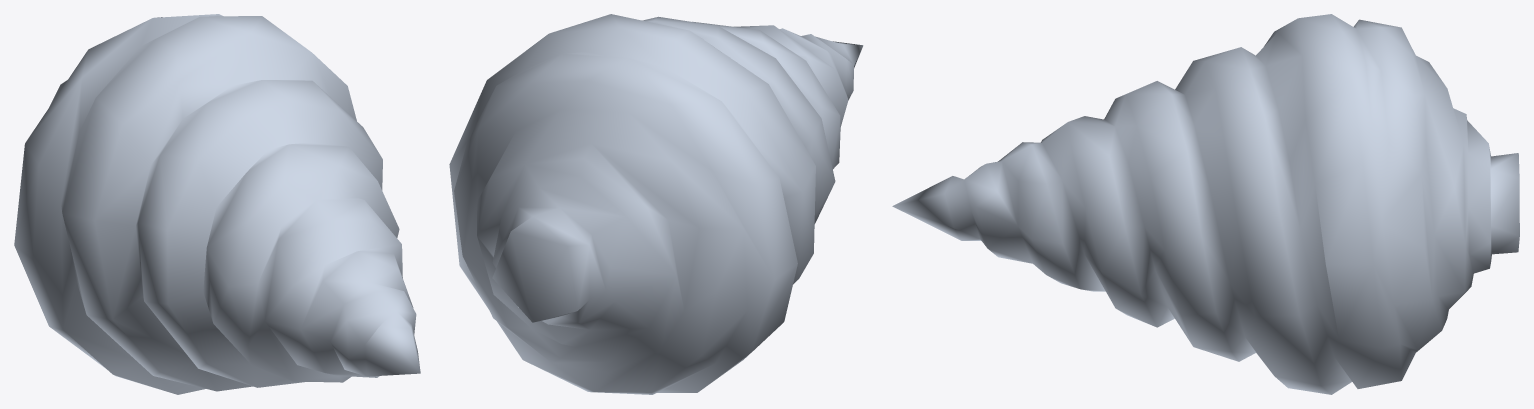
File: Drill 1.fbx
3 views of the same model, side by side, from view 1: azimuth 30°, elevation 25°; view 2: azimuth 150°, elevation 25°; view 3: azimuth 270°, elevation 25° (orthographic). The views are drawn at different scales.
Parts seen in each view (by area): view 1: MeshTransformExportRoot; view 2: MeshTransformExportRoot; view 3: MeshTransformExportRoot.
Part boxes in pixels (x1=…): MeshTransformExportRoot: x1=14, y1=14, x2=420, y2=394; MeshTransformExportRoot: x1=449, y1=14, x2=863, y2=394; MeshTransformExportRoot: x1=892, y1=14, x2=1519, y2=394.
Bounding box in the file's own units: 32.67 × 34.43 × 55.76.
